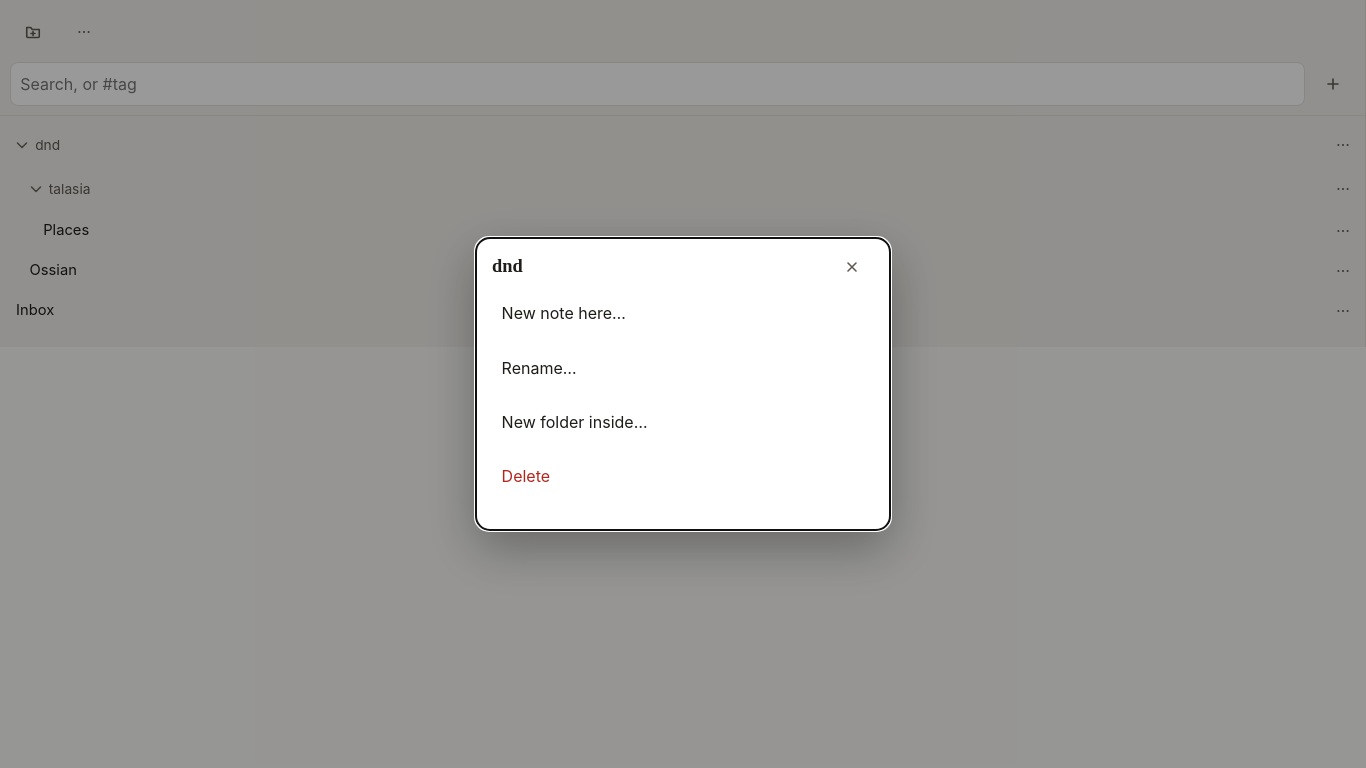
Test: the folder menu › puts the count of what goes in the delete question
The width and height of the screenshot is (1366, 768).
Click the menu item with class "menu-item" showing "Delete".
click(526, 476)  # box top-left (492, 458), bottom-right (874, 510)
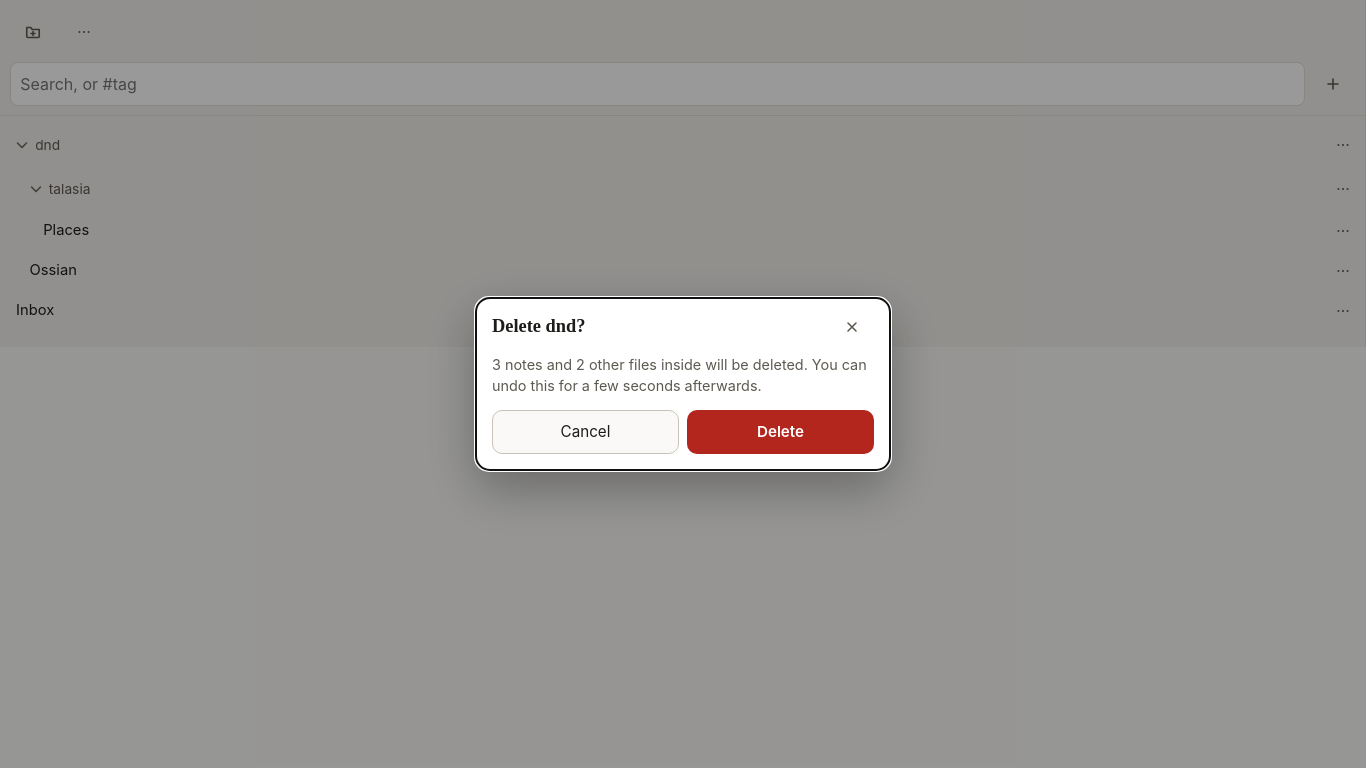
Now the element with class "sheet-body" shows "3 notes and 2 other files", box top-left (492, 356), bottom-right (867, 394)
